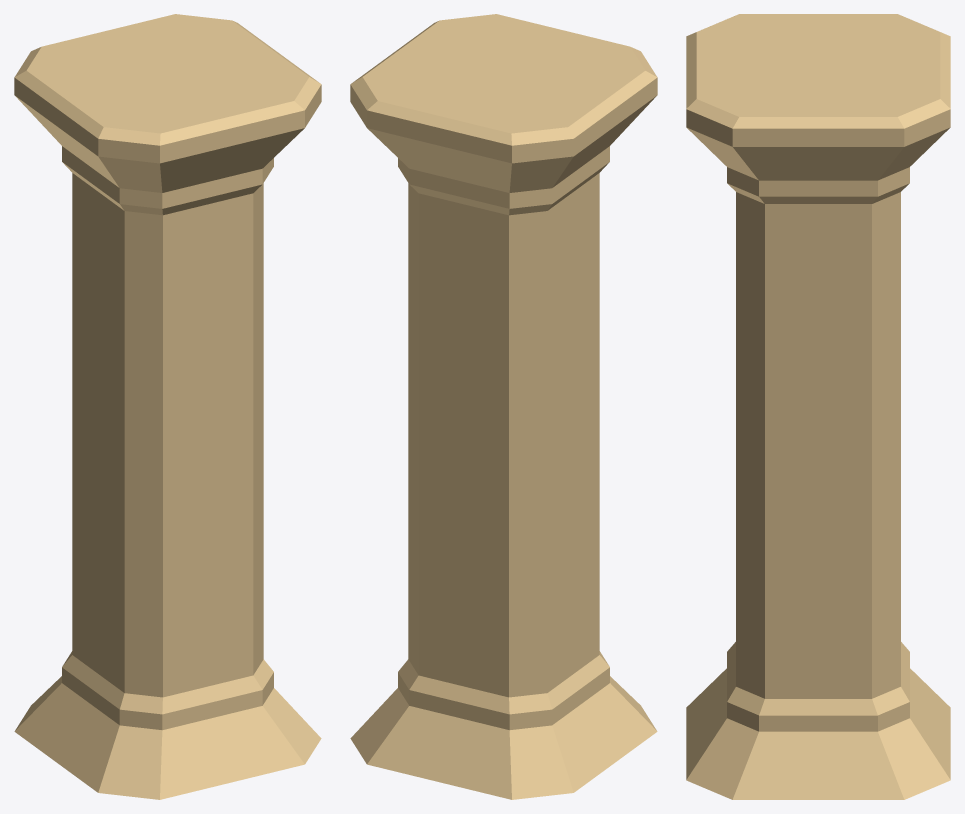
The model's file is Mesh_PillarBig.glb.
3 renders of one model, left to right at view 1: azimuth 30°, elevation 25°; view 2: azimuth 150°, elevation 25°; view 3: azimuth 270°, elevation 25°, orthographic. The views are drawn at different scales.
Visible parts, largest first — view 1: Cube.075; view 2: Cube.075; view 3: Cube.075.
Boxes of the visible parts, x1=… form: Cube.075: x1=14, y1=14, x2=321, y2=799; Cube.075: x1=350, y1=14, x2=657, y2=799; Cube.075: x1=686, y1=14, x2=950, y2=799.
Bounding box in the file's own units: 7.76 × 21.96 × 7.76.
